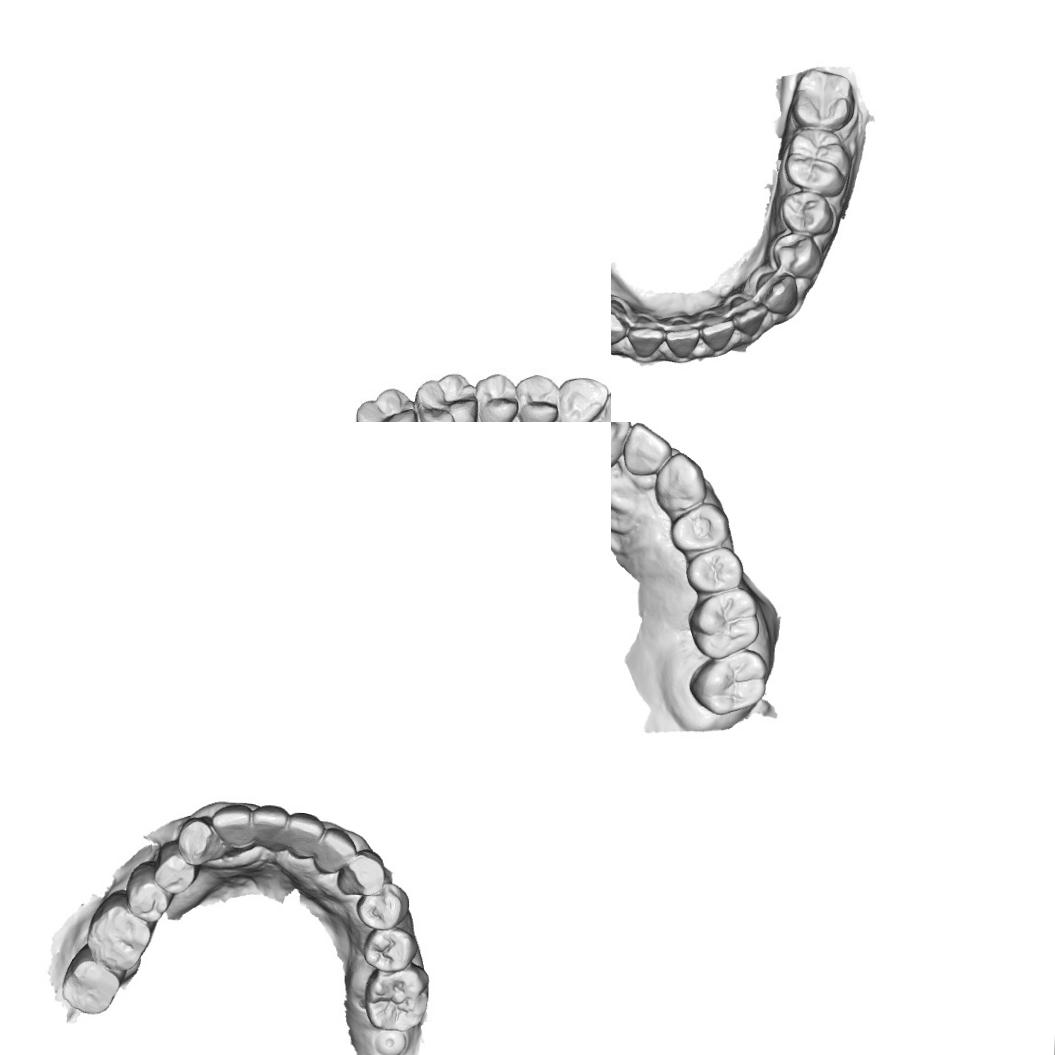canine: (652, 449, 708, 515), (555, 372, 608, 422), (336, 847, 388, 897), (175, 816, 225, 866), (755, 270, 800, 316), (611, 298, 628, 350)
implant: (371, 1028, 408, 1055)
incisor: (621, 422, 674, 477), (311, 825, 358, 877), (210, 803, 256, 852), (285, 810, 326, 860), (625, 313, 668, 360), (252, 804, 290, 852), (664, 316, 704, 360), (696, 311, 736, 353), (728, 296, 768, 338), (611, 422, 632, 473), (601, 382, 611, 422)
molar: (87, 888, 156, 977), (688, 648, 771, 718), (685, 590, 761, 661), (782, 126, 854, 198), (362, 962, 430, 1031), (60, 943, 122, 1016), (789, 66, 856, 132), (412, 371, 479, 422), (352, 384, 418, 422)
premolar: (668, 500, 731, 554), (685, 544, 746, 596), (124, 858, 171, 921), (361, 925, 419, 974), (355, 881, 410, 931), (768, 232, 824, 280), (153, 837, 198, 895), (779, 192, 836, 236), (472, 371, 519, 422), (515, 369, 559, 422)
